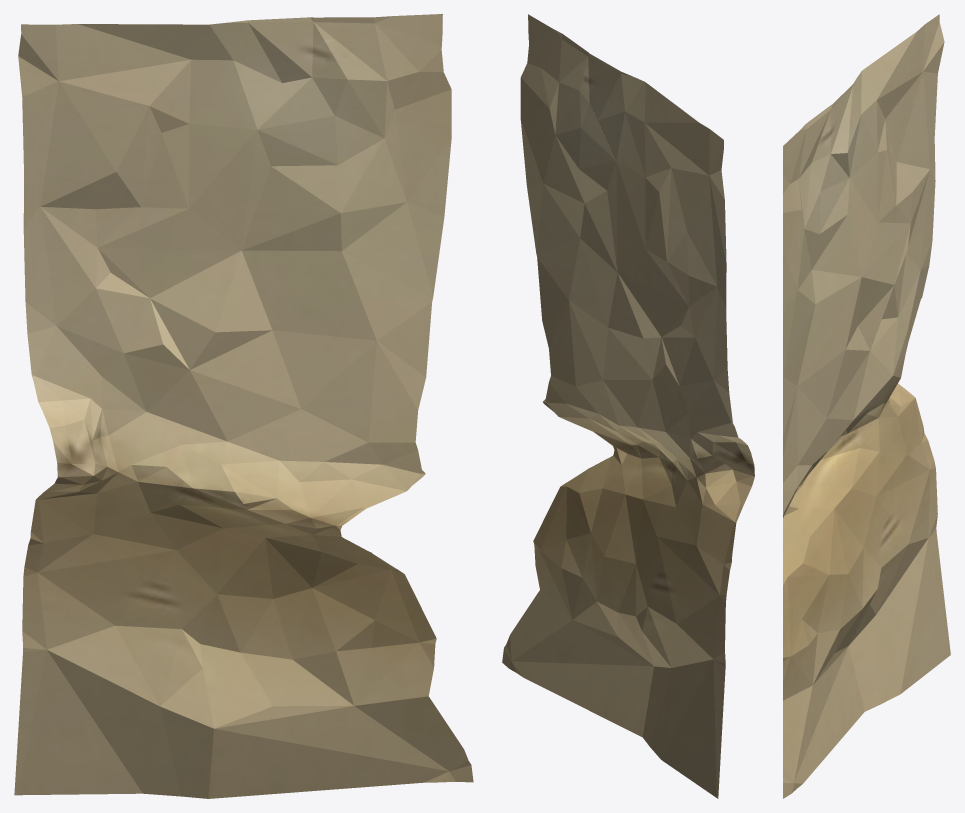
3 renders of one model, left to right at view 1: azimuth 30°, elevation 25°; view 2: azimuth 150°, elevation 25°; view 3: azimuth 270°, elevation 25°, orthographic. The views are drawn at different scales.
Bounding box in the file's own units: 0.8079 × 1.67 × 0.3974.
1 material, 1 textured.
